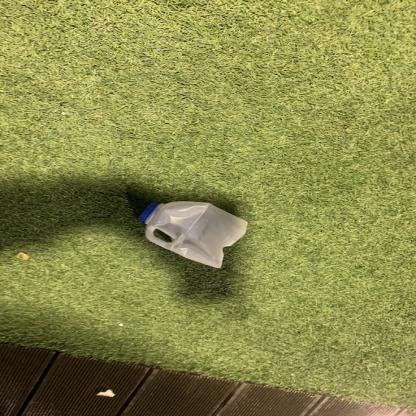trash: (139, 199, 252, 269)
